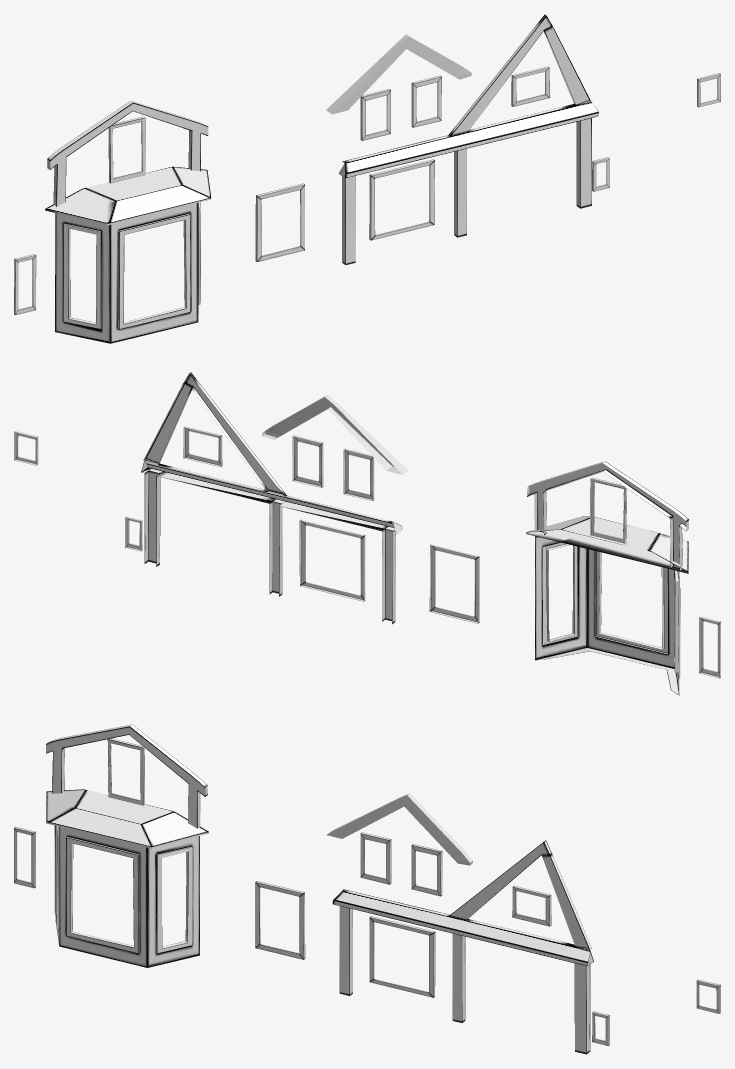
The model's file is Background1.fbx.
3 renders of one model, top to bottom at view 1: azimuth 30°, elevation 25°; view 2: azimuth 150°, elevation 25°; view 3: azimuth 330°, elevation 25°, orthographic.
Parts seen in each view (by area): view 1: Cube, Cube.010, Cube.012, Cube.011, Cube.004, Cube.003, Cube.002, Cube.006, Cube.005, Cube.001, Cube.007; view 2: Cube, Cube.010, Cube.012, Cube.011, Cube.004, Cube.003, Cube.002, Cube.006, Cube.005, Cube.007, Cube.001; view 3: Cube, Cube.010, Cube.012, Cube.011, Cube.004, Cube.003, Cube.002, Cube.006, Cube.005, Cube.007, Cube.001.
Part boxes in pixels (bbox=[...]): Cube: bbox=[45, 166, 211, 343]; Cube.010: bbox=[339, 14, 598, 264]; Cube.012: bbox=[47, 100, 208, 206]; Cube.011: bbox=[326, 34, 471, 114]; Cube.004: bbox=[369, 159, 434, 240]; Cube.003: bbox=[255, 183, 304, 261]; Cube.002: bbox=[108, 116, 145, 183]; Cube.006: bbox=[411, 75, 441, 127]; Cube.005: bbox=[360, 88, 390, 140]; Cube.001: bbox=[14, 254, 36, 314]; Cube.007: bbox=[511, 66, 549, 106]; Cube: bbox=[526, 516, 688, 695]; Cube.010: bbox=[141, 372, 402, 624]; Cube.012: bbox=[527, 461, 688, 571]; Cube.011: bbox=[262, 395, 408, 474]; Cube.004: bbox=[299, 519, 365, 601]; Cube.003: bbox=[429, 544, 479, 623]; Cube.002: bbox=[590, 477, 626, 544]; Cube.006: bbox=[292, 435, 323, 487]; Cube.005: bbox=[343, 448, 374, 500]; Cube.007: bbox=[183, 426, 222, 467]; Cube.001: bbox=[699, 616, 720, 678]; Cube: bbox=[46, 789, 208, 967]; Cube.010: bbox=[332, 840, 593, 1054]; Cube.012: bbox=[46, 724, 207, 828]; Cube.011: bbox=[326, 793, 472, 865]; Cube.004: bbox=[369, 916, 435, 997]; Cube.003: bbox=[255, 881, 305, 959]; Cube.002: bbox=[107, 738, 144, 805]; Cube.006: bbox=[411, 844, 442, 896]; Cube.005: bbox=[360, 832, 391, 884]; Cube.007: bbox=[512, 885, 551, 926]; Cube.001: bbox=[14, 826, 35, 888].
Size of the model in its own units: 1941 by 561 by 156.
